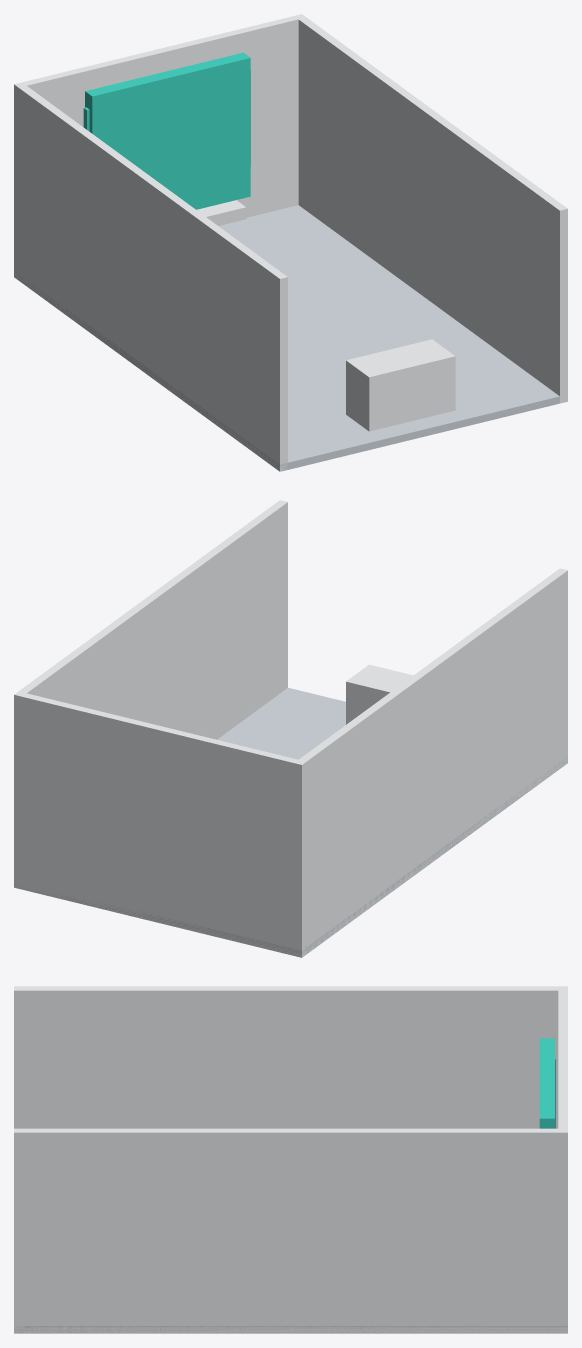
3 renders of one model, top to bottom at view 1: azimuth 30°, elevation 25°; view 2: azimuth 150°, elevation 25°; view 3: azimuth 270°, elevation 25°, orthographic. The views are drawn at different scales.
Visible parts, largest first — view 1: Exhibition Booth Concept; view 2: Exhibition Booth Concept; view 3: Exhibition Booth Concept.
Part boxes in pixels (bbox=[...]): Exhibition Booth Concept: bbox=[14, 14, 567, 471]; Exhibition Booth Concept: bbox=[14, 500, 567, 957]; Exhibition Booth Concept: bbox=[14, 986, 567, 1333].
Bounding box in the file's own units: 5 × 3.2 × 8.
